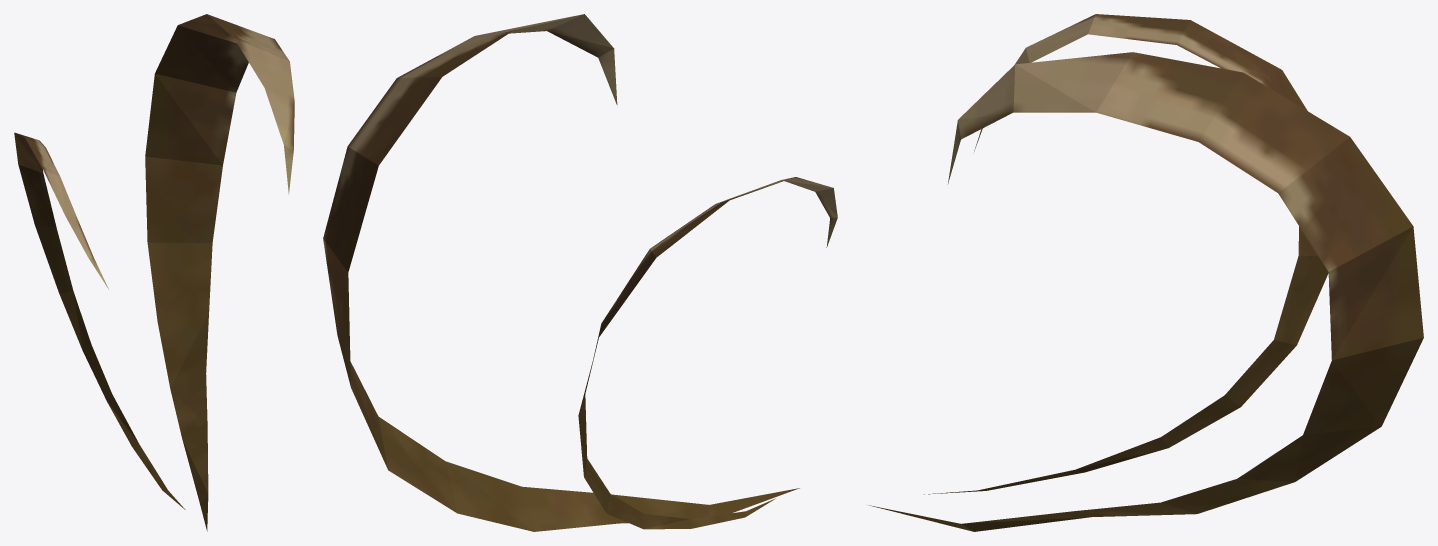
File: skinSource0FKE.obj
3 views of the same model, side by side, from view 1: azimuth 30°, elevation 25°; view 2: azimuth 150°, elevation 25°; view 3: azimuth 270°, elevation 25° (orthographic). The views are drawn at different scales.
Visible parts, largest first — view 1: skinSource0FKE; view 2: skinSource0FKE; view 3: skinSource0FKE.
Boxes of the visible parts, left/top/right/bottom form: skinSource0FKE: left=14, top=14, right=294, bottom=531; skinSource0FKE: left=323, top=14, right=837, bottom=531; skinSource0FKE: left=869, top=14, right=1423, bottom=531.
Bounding box in the file's own units: 3.44 × 4.63 × 4.32.
